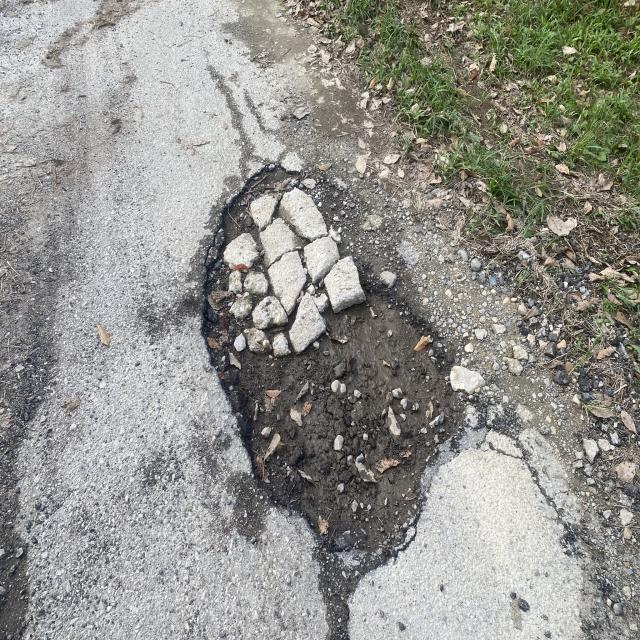Pothole: (167, 132, 494, 640)
